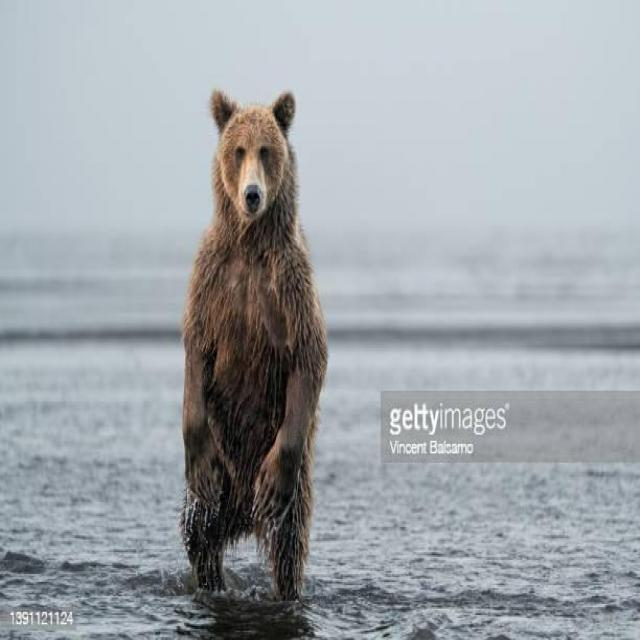Bear: (179, 88, 329, 604)
